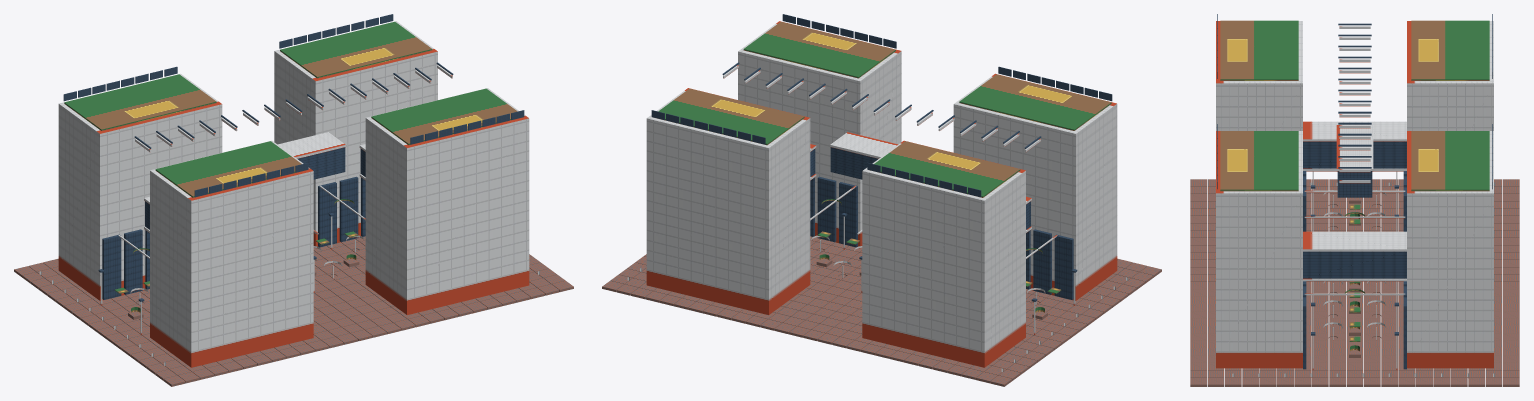
3 renders of one model, left to right at view 1: azimuth 30°, elevation 25°; view 2: azimuth 150°, elevation 25°; view 3: azimuth 270°, elevation 25°, orthographic. The views are drawn at different scales.
Parts seen in each view (by area): view 1: 28185_B11_송도_트리플스트리트; view 2: 28185_B11_송도_트리플스트리트; view 3: 28185_B11_송도_트리플스트리트.
Boxes of the visible parts, box(x1,y1,x2,y2) form: 28185_B11_송도_트리플스트리트: box(14, 14, 573, 386); 28185_B11_송도_트리플스트리트: box(602, 14, 1161, 386); 28185_B11_송도_트리플스트리트: box(1190, 14, 1519, 386).
Size of the model in its own units: 55.94 by 23.65 by 37.94.
1 material, 1 textured.
